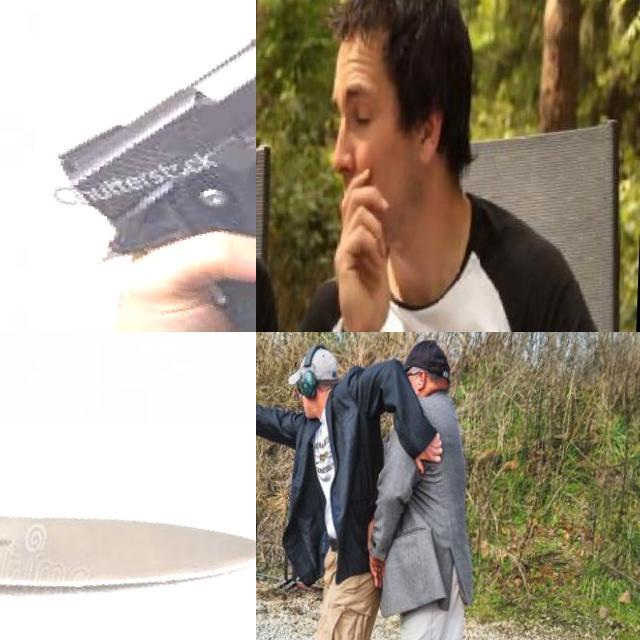-: (0, 421, 256, 640), (256, 234, 279, 332)
gun-knife-thesis - v11 Yolov5 augmented: (29, 0, 256, 332), (256, 380, 276, 415)
